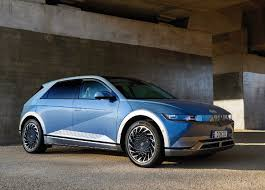Honda Ioniq: (16, 72, 241, 183)
